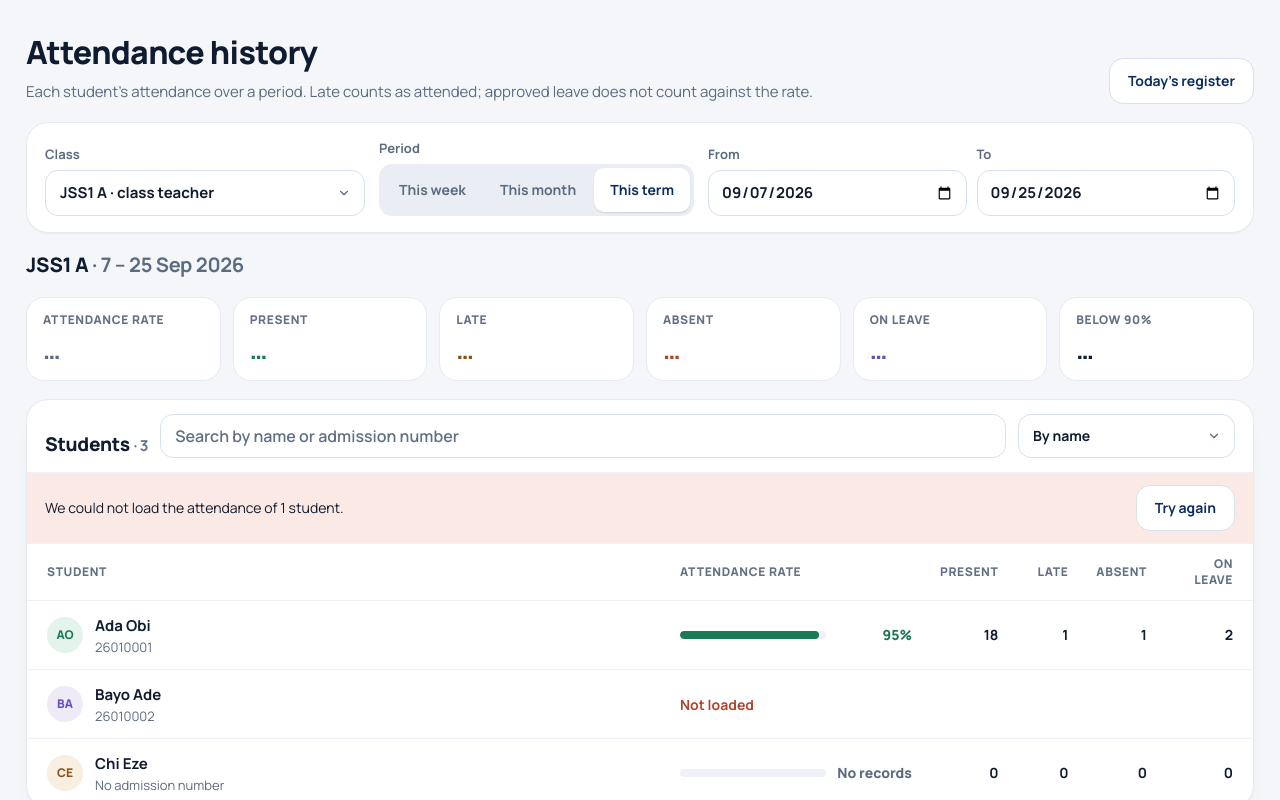
Scenario: AttendanceHistoryScreen › says which students could not be loaded and retries them
Expected: the text "We could not load the attendance of 1 student." is shown, [45,498,344,517]
Expected: the row "BA Bayo Ade 26010002 Not loaded" is shown, [27,670,1253,738]
Click the button "Try again".
click(1185, 508)  # box [1136,485,1235,531]
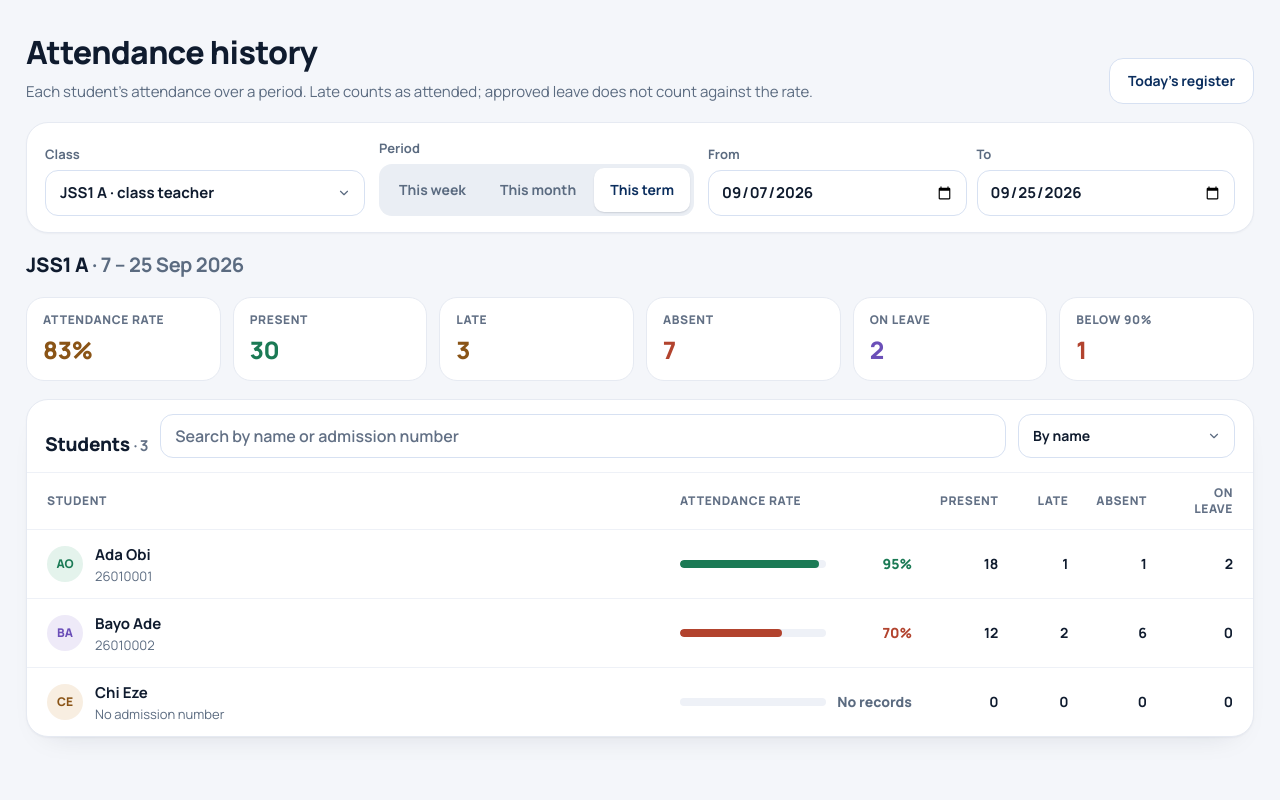
Result: the text "could not load the attendance" is gone
Result: the row "BA Bayo Ade 26010002 70% 12 2 6 0" is shown at [27,598,1253,668]
